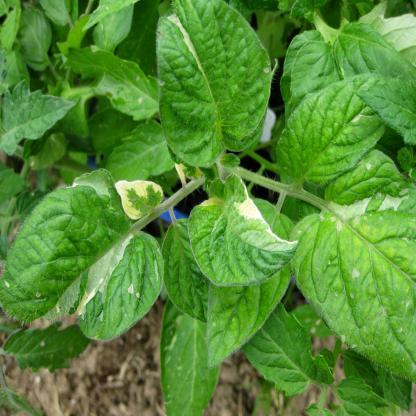Tomato leaf bacterial spot: (154, 2, 274, 172), (279, 77, 384, 178), (0, 80, 78, 154)
